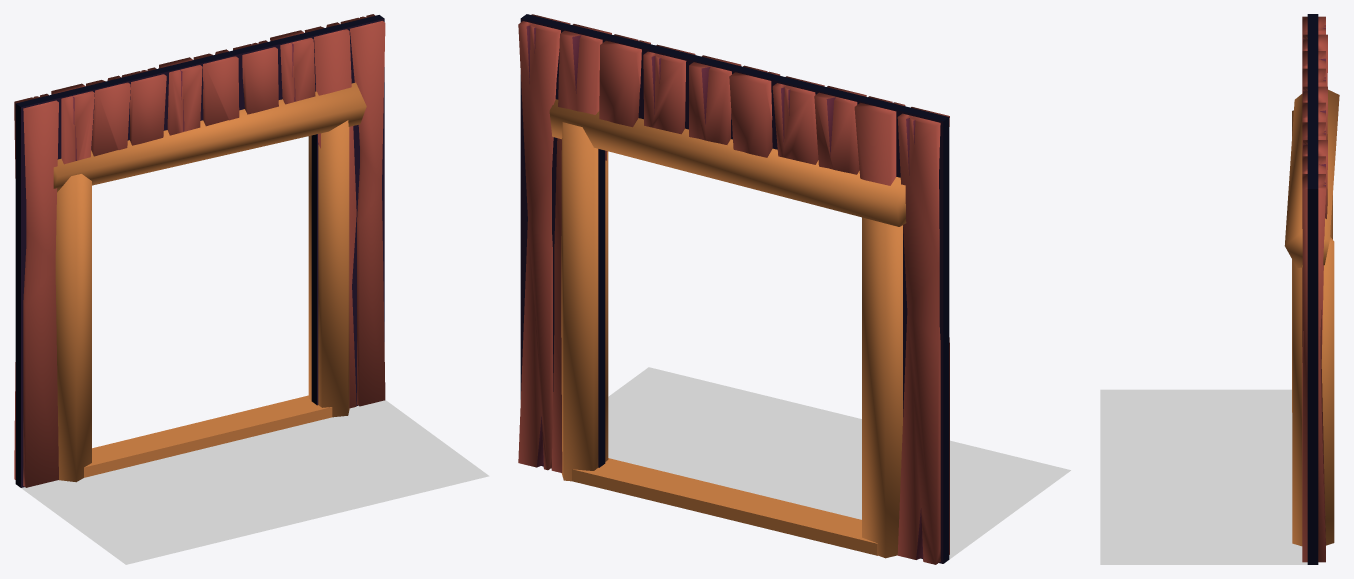
File: door_p_1.glb
3 renders of one model, left to right at view 1: azimuth 30°, elevation 25°; view 2: azimuth 150°, elevation 25°; view 3: azimuth 270°, elevation 25°, orthographic. The views are drawn at different scales.
Parts seen in each view (by area): view 1: Cube.049, Plane.004, Cube.039, Cylinder.007, Cylinder.008, Cylinder.005, Cube.040; view 2: Cube.049, Plane.004, Cube.039, Cylinder.005, Cylinder.007, Cylinder.008, Cube.040; view 3: Plane.004, Cube.049, Cube.039, Cylinder.005, Cylinder.008.
Boxes of the visible parts, <box> form: Cube.049: <box>14,14,385,487</box>; Plane.004: <box>21,400,489,564</box>; Cube.039: <box>15,15,384,487</box>; Cylinder.007: <box>55,174,91,482</box>; Cylinder.008: <box>53,82,366,192</box>; Cylinder.005: <box>308,120,349,417</box>; Cube.040: <box>84,395,332,477</box>; Cube.049: <box>518,14,949,564</box>; Plane.004: <box>608,367,1070,559</box>; Cube.039: <box>520,14,949,563</box>; Cylinder.005: <box>561,122,608,481</box>; Cylinder.007: <box>862,217,902,558</box>; Cylinder.008: <box>549,99,906,226</box>; Cube.040: <box>572,458,877,555</box>; Plane.004: <box>1100,389,1307,564</box>; Cube.049: <box>1302,16,1327,562</box>; Cube.039: <box>1307,14,1318,564</box>; Cylinder.005: <box>1292,236,1334,546</box>; Cylinder.008: <box>1284,89,1339,267</box>.
Bounding box in the file's own units: 4 × 4 × 2.31.
2 materials, 1 textured.
